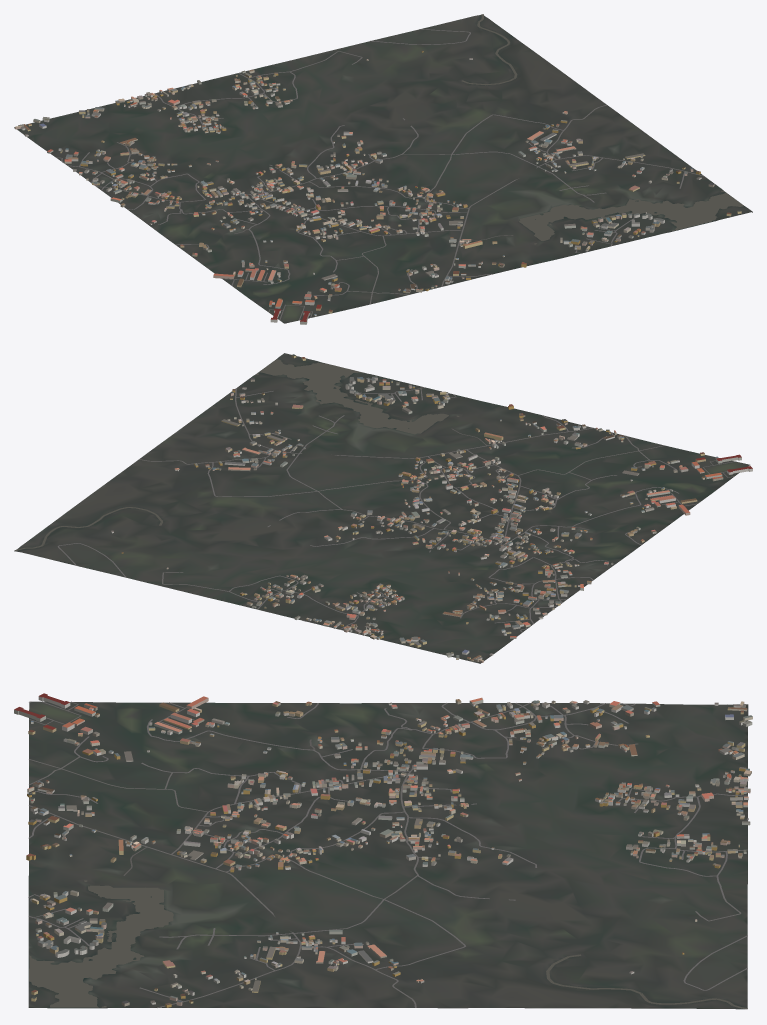
3 views of the same model, one above another, from view 1: azimuth 30°, elevation 25°; view 2: azimuth 150°, elevation 25°; view 3: azimuth 270°, elevation 25° (orthographic). The views are drawn at different scales.
Parts seen in each view (by area): view 1: ground, buildings, roads, water; view 2: ground, buildings, roads, water; view 3: ground, buildings, roads, water.
Boxes of the visible parts, <box> form: ground: <box>14,15,752,323</box>; buildings: <box>15,50,741,324</box>; roads: <box>56,29,704,323</box>; water: <box>461,14,743,244</box>; ground: <box>14,353,750,663</box>; buildings: <box>111,354,752,662</box>; roads: <box>57,387,749,632</box>; water: <box>14,359,459,551</box>; ground: <box>28,701,748,1009</box>; buildings: <box>14,693,752,1007</box>; roads: <box>28,701,748,1007</box>; water: <box>29,880,747,1009</box>.
Size of the model in its own units: 1428 by 18.15 by 1441.
